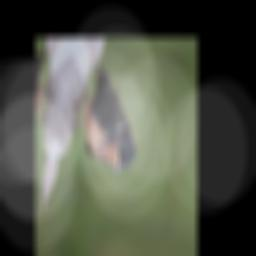Swallow: (62, 57, 151, 179)
